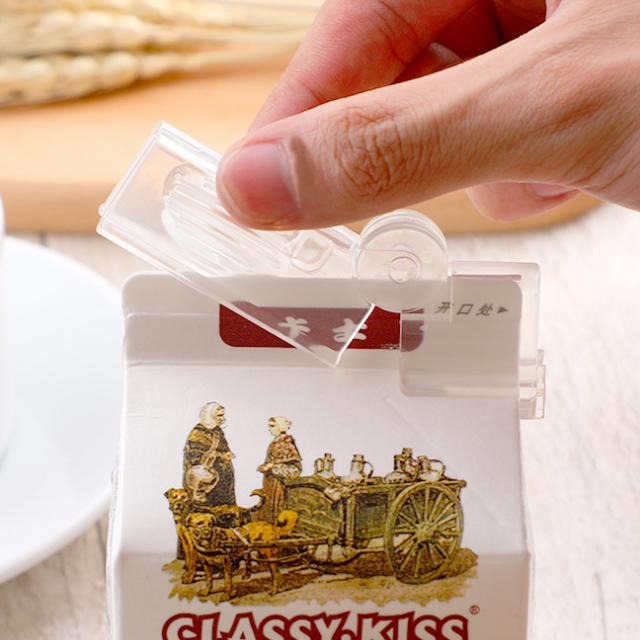Carton: (103, 269, 554, 640)
